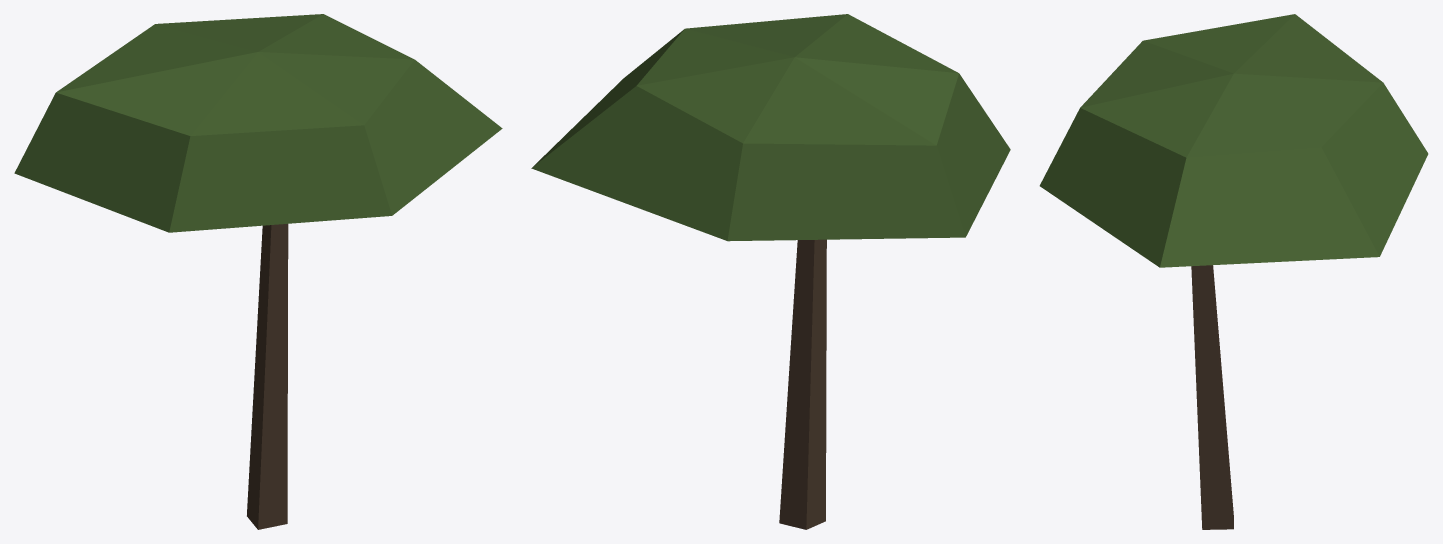
File: aleppo_pine_far.glb
3 renders of one model, left to right at view 1: azimuth 30°, elevation 25°; view 2: azimuth 150°, elevation 25°; view 3: azimuth 270°, elevation 25°, orthographic. The views are drawn at different scales.
Visible parts, largest first — view 1: aleppo_pine_far; view 2: aleppo_pine_far; view 3: aleppo_pine_far.
Boxes of the visible parts, <box> form: aleppo_pine_far: <box>14,14,502,529</box>; aleppo_pine_far: <box>531,14,1010,529</box>; aleppo_pine_far: <box>1039,14,1428,529</box>.
Size of the model in its own units: 7.84 by 8.42 by 6.59.
